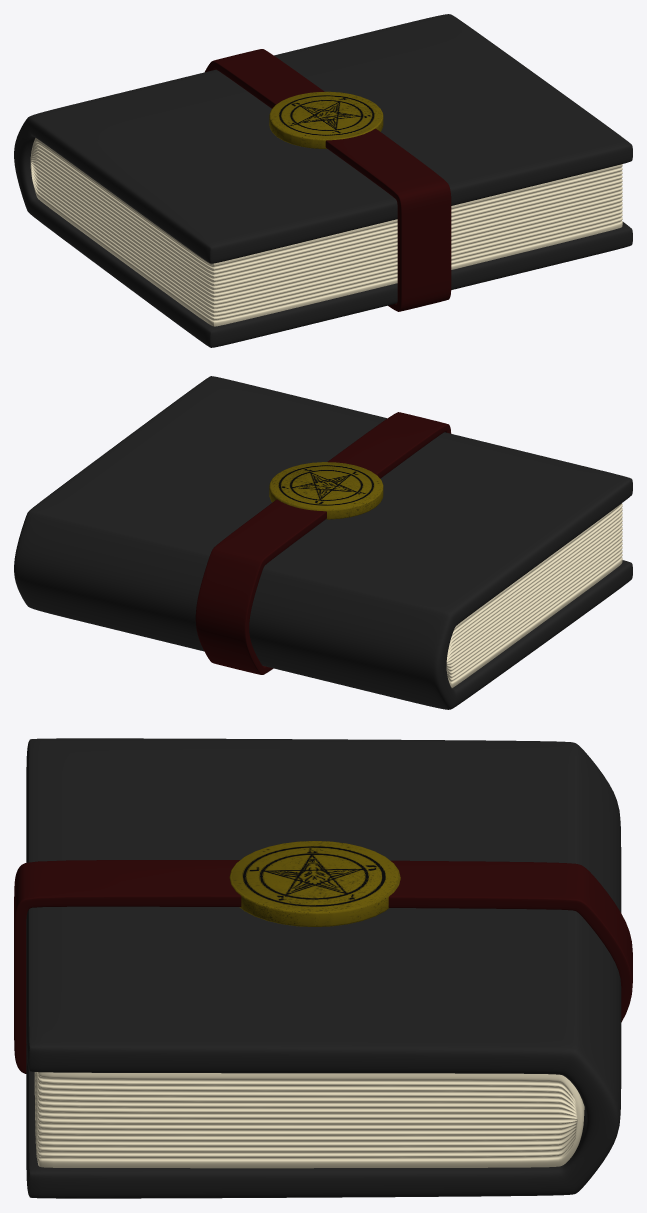
The model's file is RitualBook.fbx.
3 views of the same model, one above another, from view 1: azimuth 30°, elevation 25°; view 2: azimuth 150°, elevation 25°; view 3: azimuth 270°, elevation 25° (orthographic). The views are drawn at different scales.
Parts seen in each view (by area): view 1: Book, Paper, Strap, Madallion; view 2: Book, Strap, Paper, Madallion; view 3: Book, Paper, Strap, Madallion.
Boxes of the visible parts, x1=… form: Book: x1=14, y1=14, x2=632, y2=347; Paper: x1=30, y1=138, x2=622, y2=326; Strap: x1=205, y1=49, x2=451, y2=311; Madallion: x1=269, y1=91, x2=383, y2=148; Book: x1=14, y1=376, x2=632, y2=709; Strap: x1=195, y1=412, x2=451, y2=674; Paper: x1=446, y1=503, x2=622, y2=687; Madallion: x1=269, y1=462, x2=383, y2=519; Book: x1=26, y1=738, x2=621, y2=1198; Paper: x1=34, y1=1072, x2=584, y2=1168; Strap: x1=14, y1=860, x2=632, y2=1073; Madallion: x1=229, y1=841, x2=400, y2=926.
Size of the model in its own units: 1317 by 361 by 1104.
Materials: 4 (1 with a texture image).
